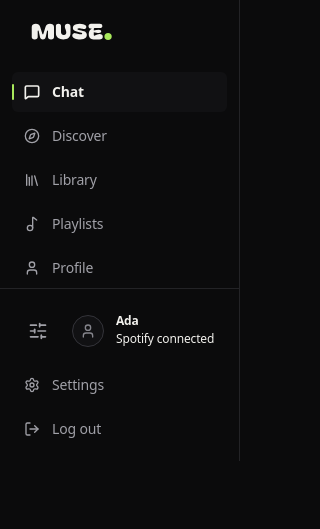
it: Sidebar log out › shows the failure and lets the person try again instead of pretending
The width and height of the screenshot is (320, 529).
Click the button "Log out" at (120,429), box [12,409,227,449]
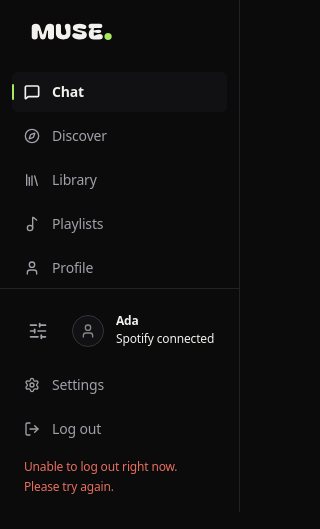
Expected: the message reads "Unable to log out right now. Please try again.", [24,458,177,494]
